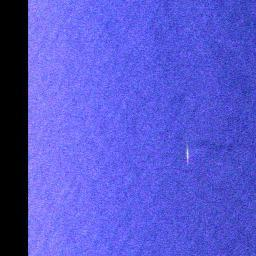Ship: (183, 144, 191, 164)
